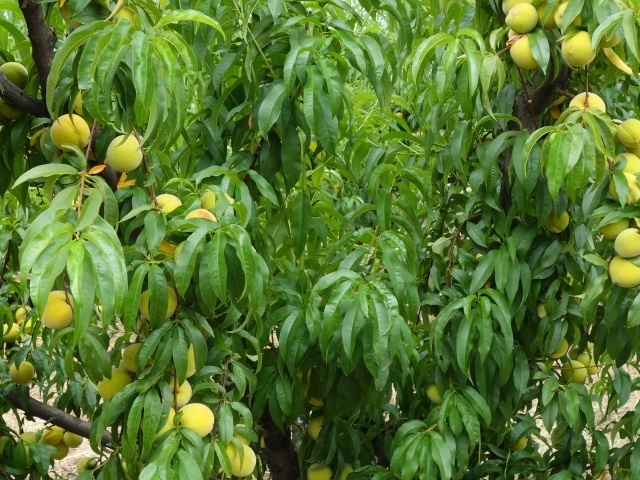peach: (102, 132, 148, 178), (35, 289, 82, 334), (47, 112, 94, 155), (136, 283, 181, 326), (558, 26, 599, 71), (173, 401, 218, 441), (566, 88, 610, 126), (92, 364, 134, 402), (221, 439, 260, 479), (147, 188, 184, 226), (509, 32, 544, 71), (500, 1, 540, 35), (606, 252, 640, 292), (607, 170, 639, 209), (304, 411, 336, 447), (165, 373, 194, 411), (120, 340, 150, 376), (551, 1, 588, 30), (599, 212, 632, 244), (613, 224, 640, 263), (182, 204, 220, 231), (5, 357, 37, 389), (540, 203, 570, 237), (560, 358, 590, 388), (1, 59, 31, 89), (615, 114, 640, 150), (575, 347, 604, 376), (611, 150, 640, 177), (423, 378, 448, 409), (546, 335, 571, 363), (10, 303, 40, 325), (61, 425, 85, 452), (37, 425, 65, 447), (302, 460, 334, 479), (45, 441, 70, 464), (15, 429, 39, 449)
